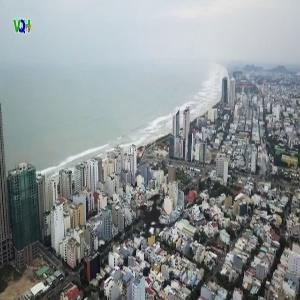drone: (77, 147, 230, 300)
